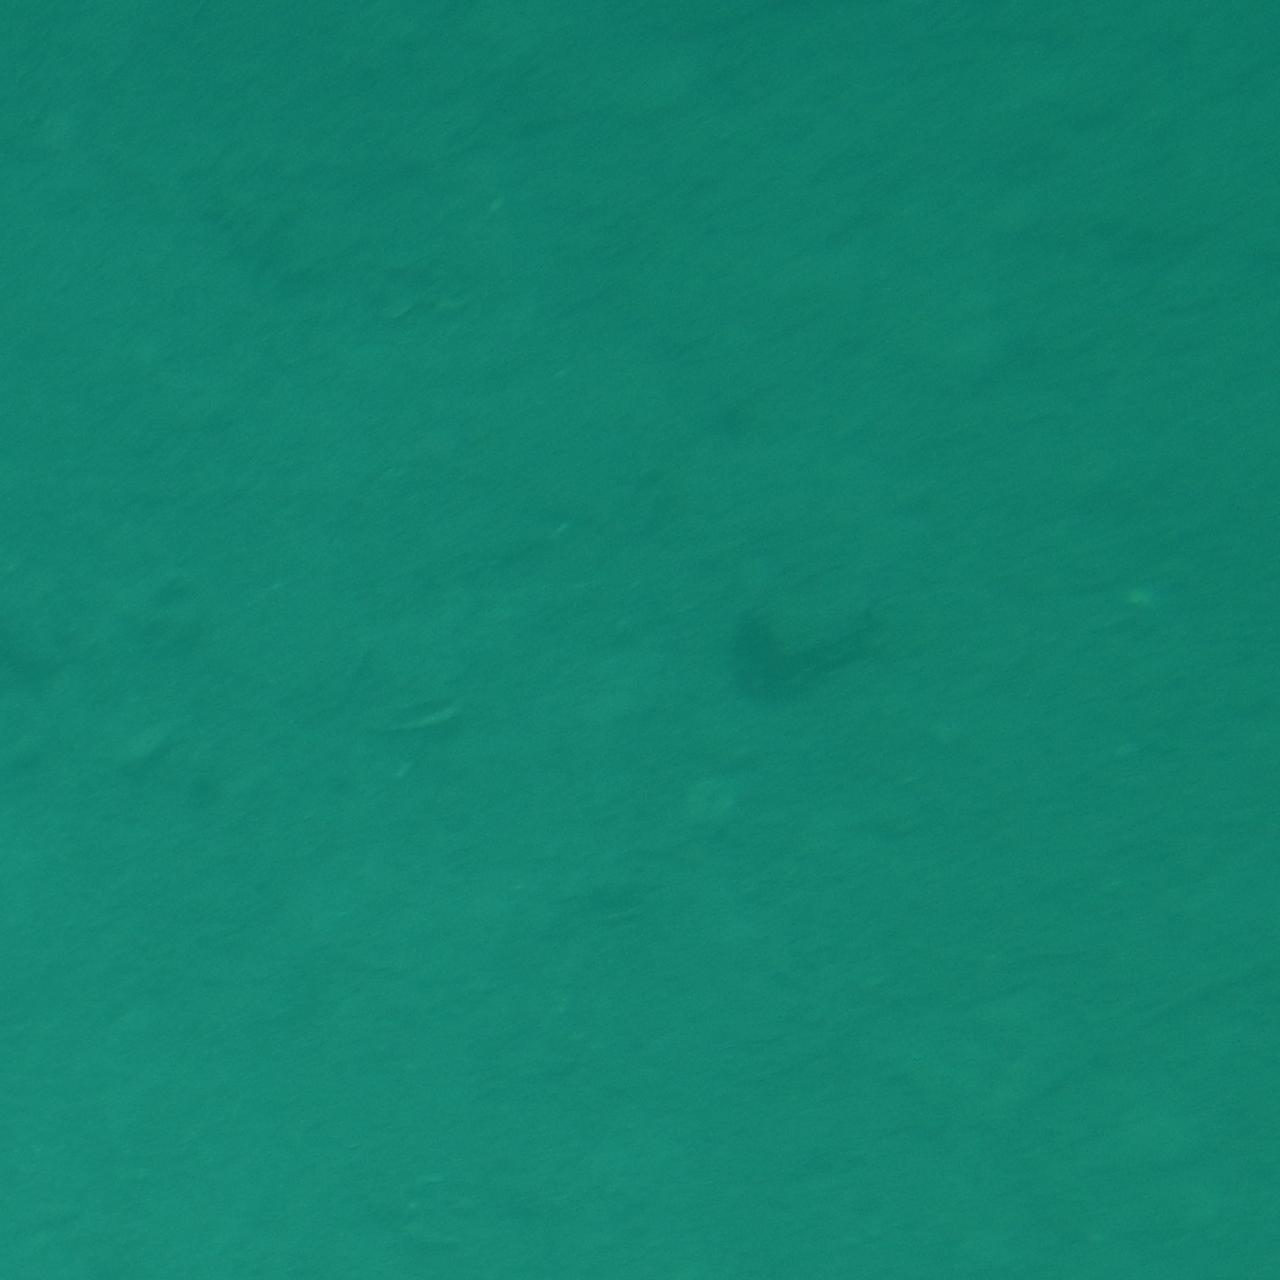Holothuria tubulosa: (722, 549, 910, 731)
